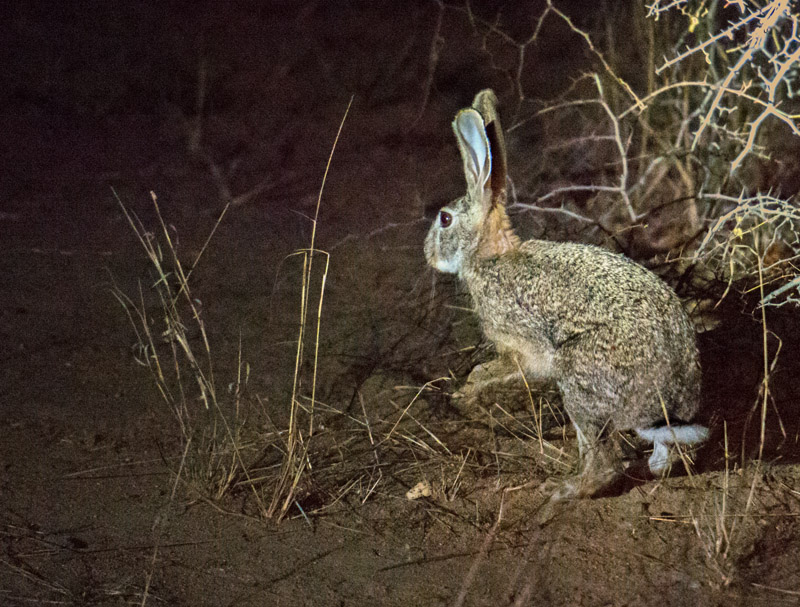bunny: (401, 88, 745, 508)
